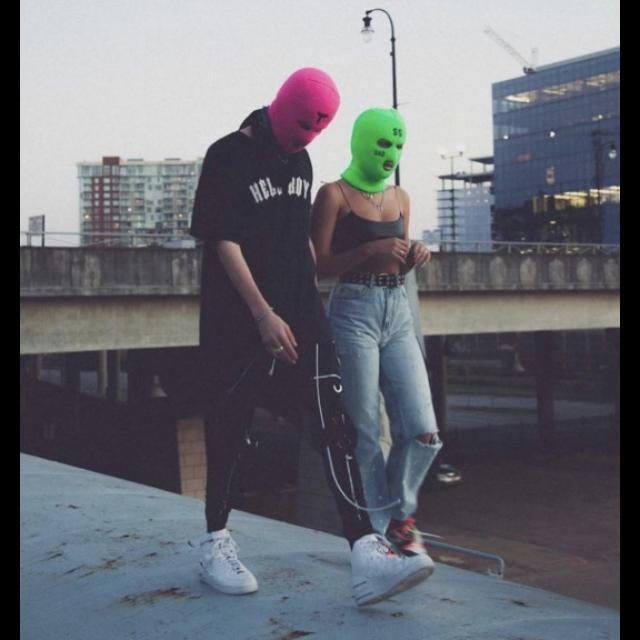criminal: (189, 66, 434, 606), (310, 106, 445, 556)
